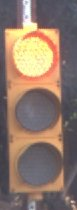Red: (2, 23, 74, 207)
